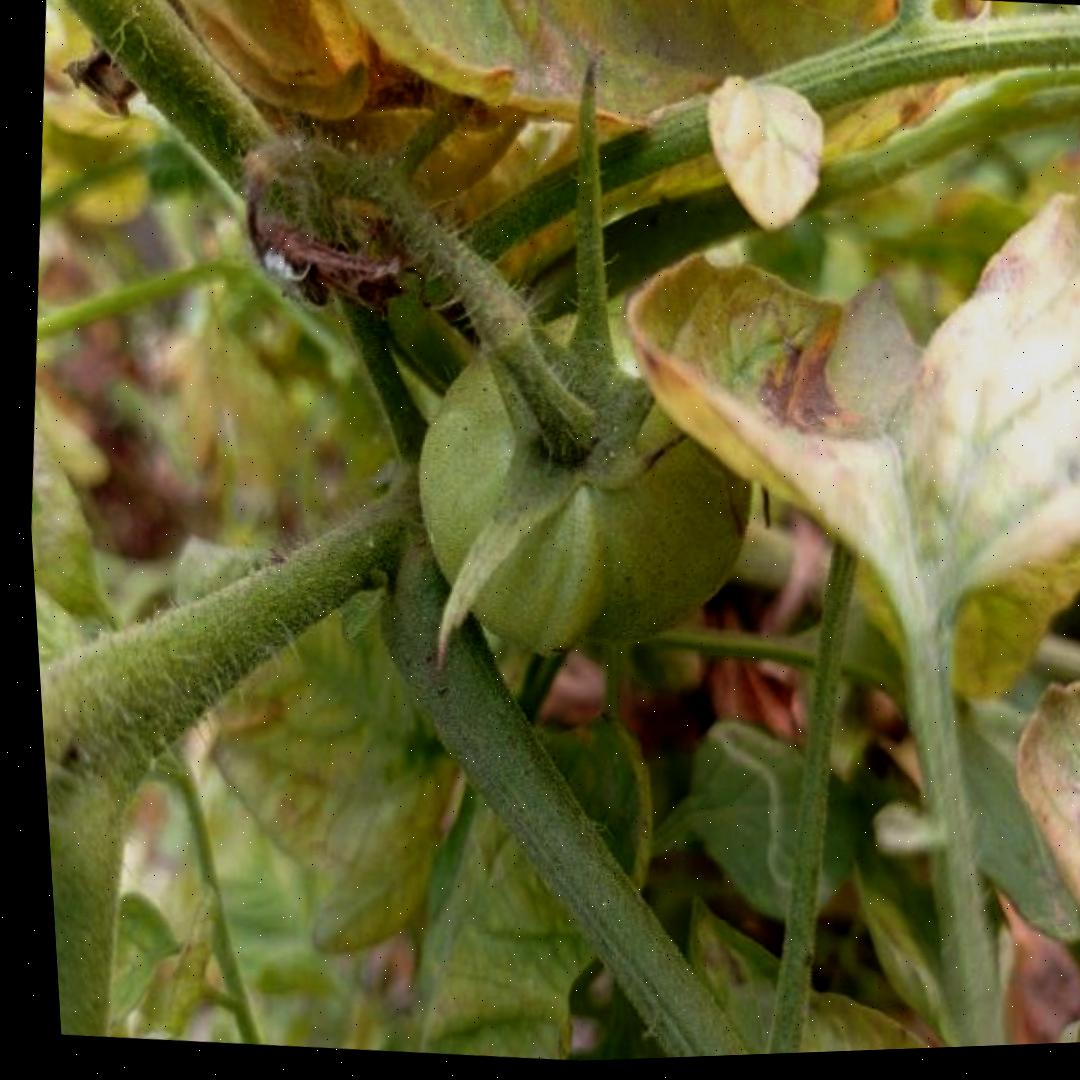mentah: (392, 292, 780, 677)
